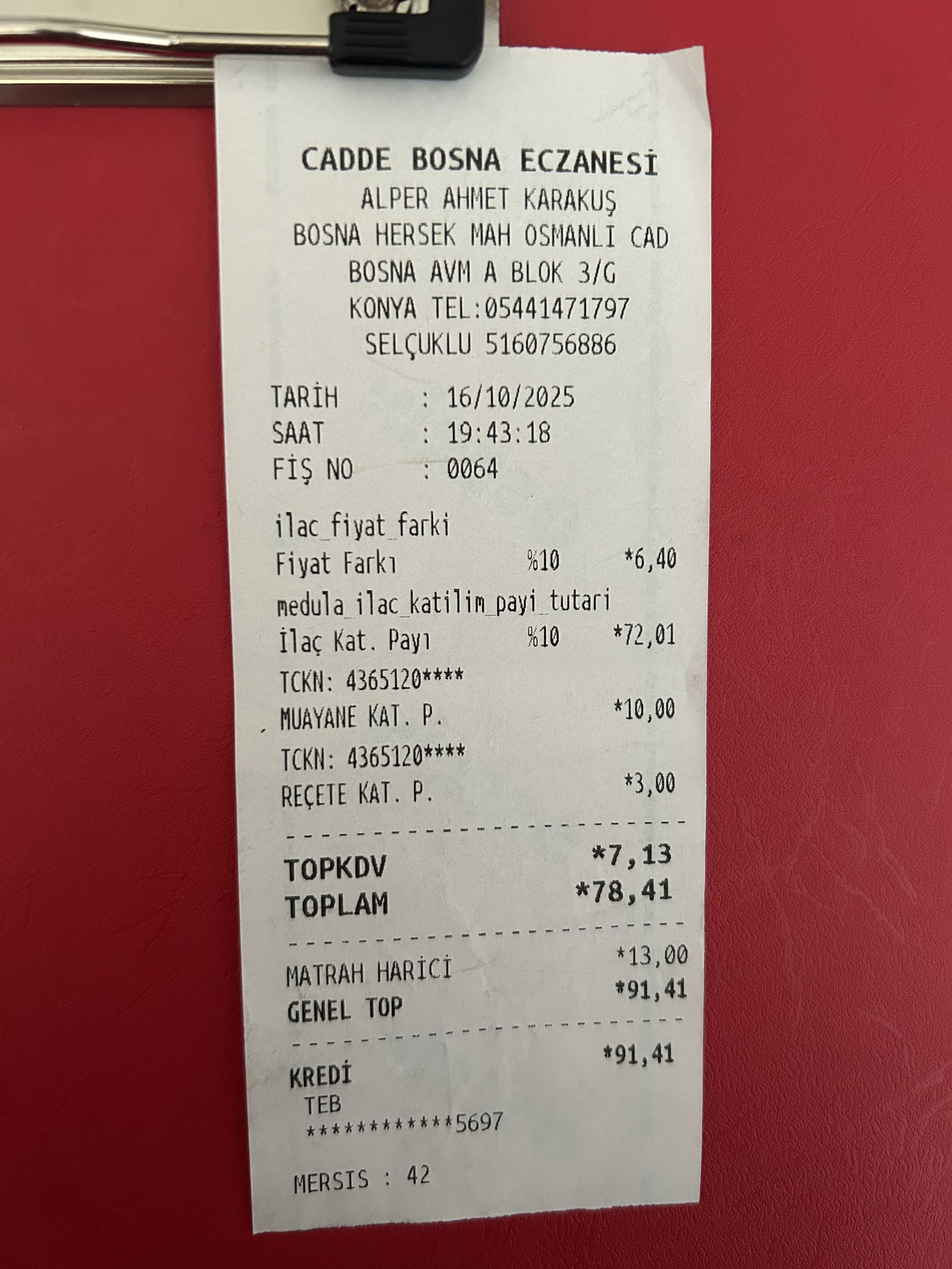date: (588, 874, 683, 907)
price: (433, 376, 585, 411)
workplace: (274, 133, 689, 285)
